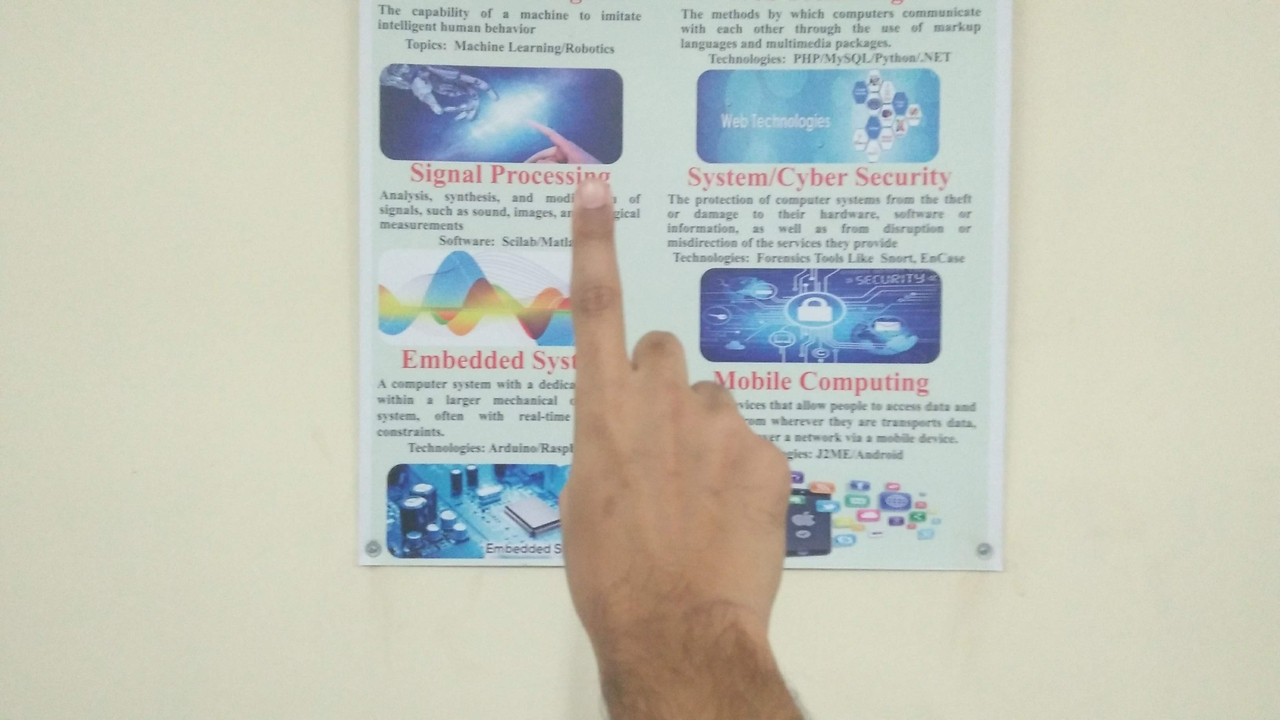fingertip: (565, 172, 617, 221)
